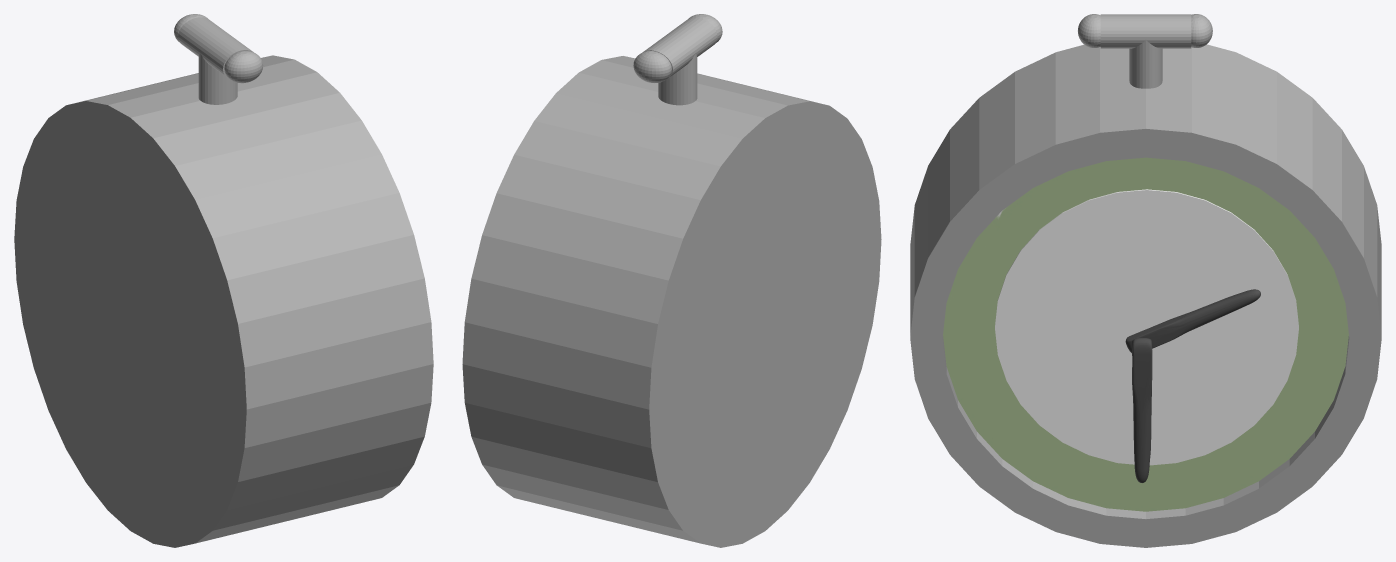
File: timer.fbx
The picture shows the model from 3 angles, left to right: view 1: azimuth 30°, elevation 25°; view 2: azimuth 150°, elevation 25°; view 3: azimuth 270°, elevation 25°; orthographic projection.
Visible parts, largest first — view 1: timer.005; view 2: timer.005; view 3: timer.005.
Boxes of the visible parts, x1,y1,x2,y2 form: timer.005: [14, 14, 433, 547]; timer.005: [462, 14, 881, 547]; timer.005: [910, 14, 1381, 547].
Size of the model in its own units: 150 by 350 by 310.
